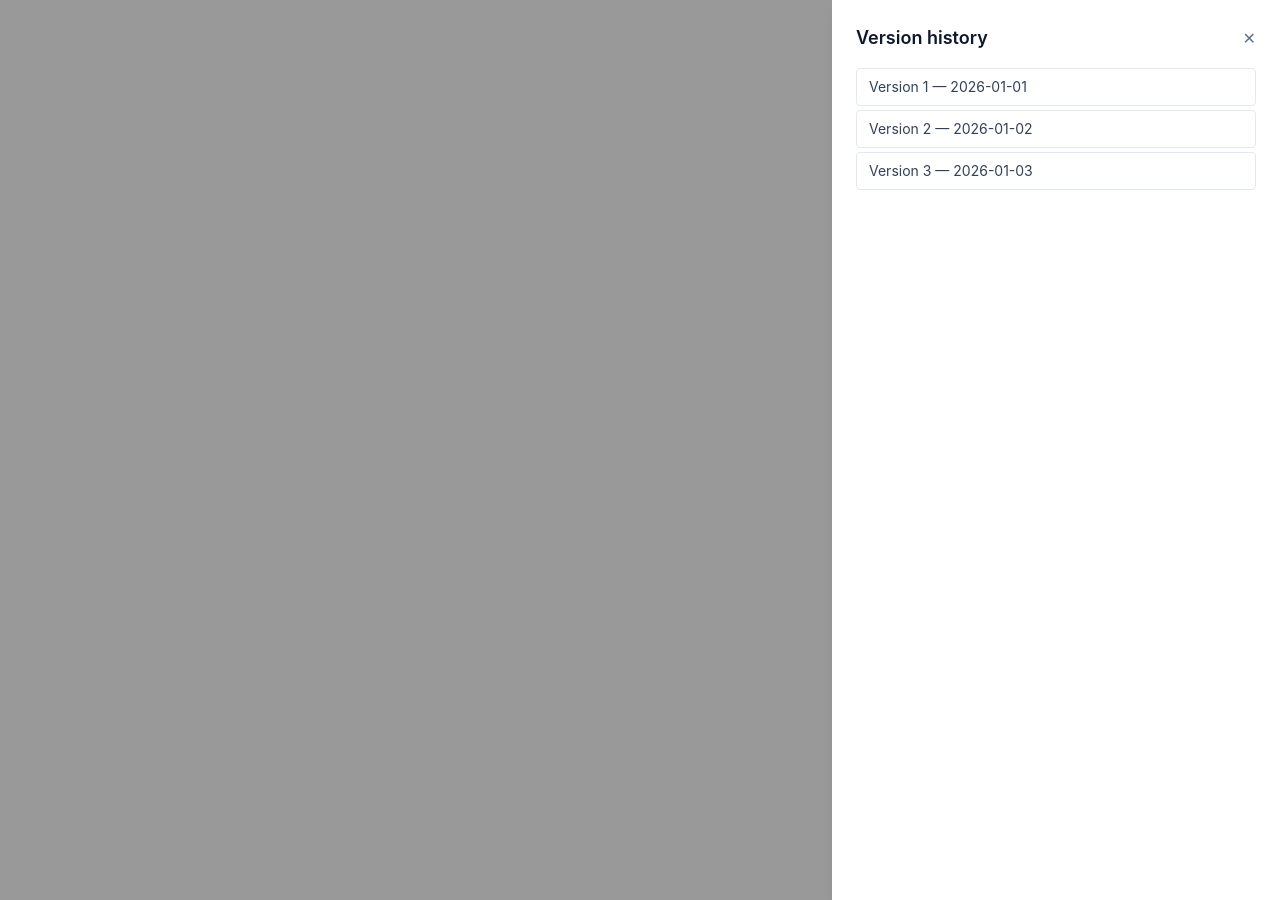
Test: VersionHistoryDrawer › User selects a version: the historical title and content are displayed read-only
The width and height of the screenshot is (1280, 900).
Click the button "Version 1 — 2026-01-01".
click(896, 86)  # box left=856, top=68, right=1256, bottom=106
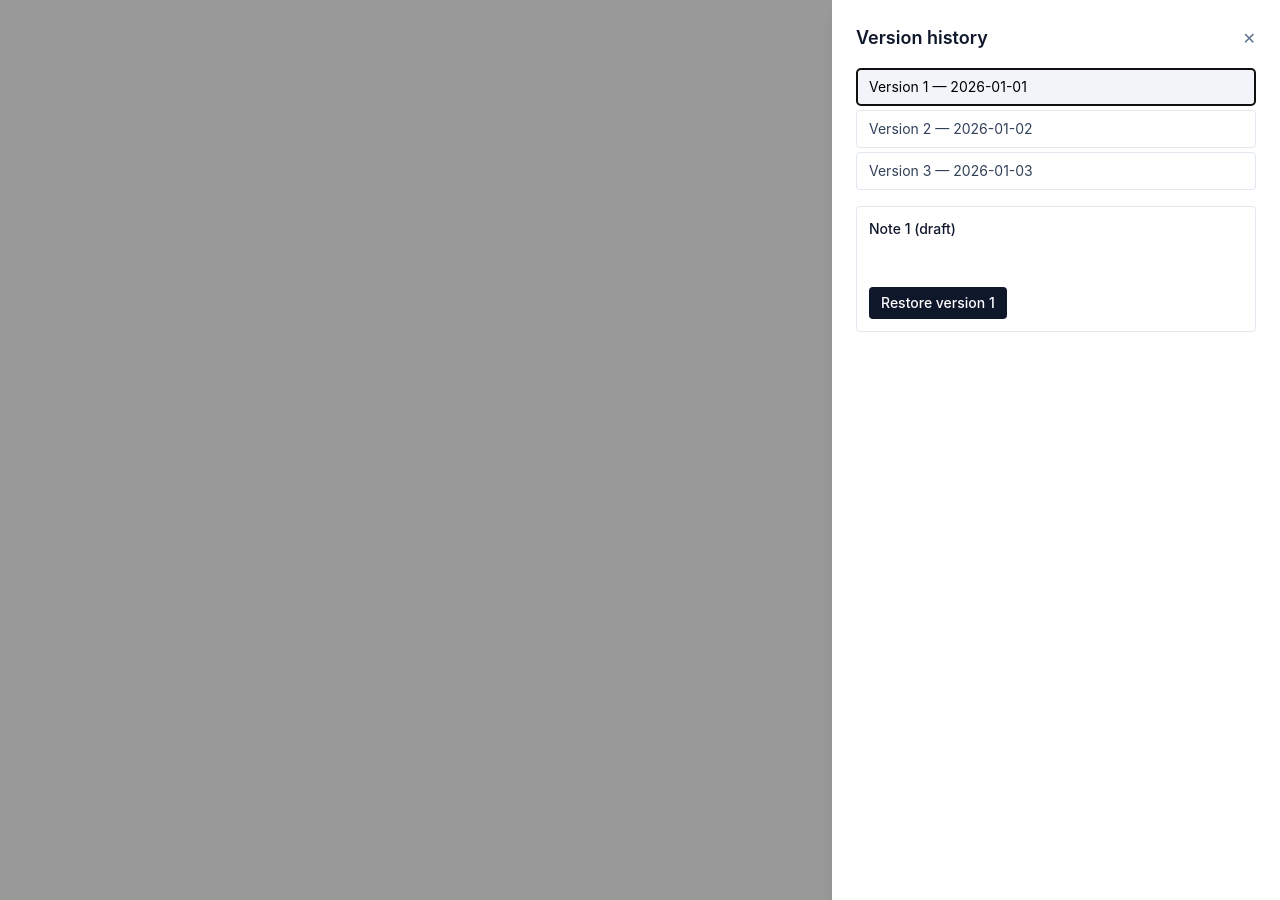
Now the text "Note 1 (draft)" is shown, box left=869, top=220, right=956, bottom=237
